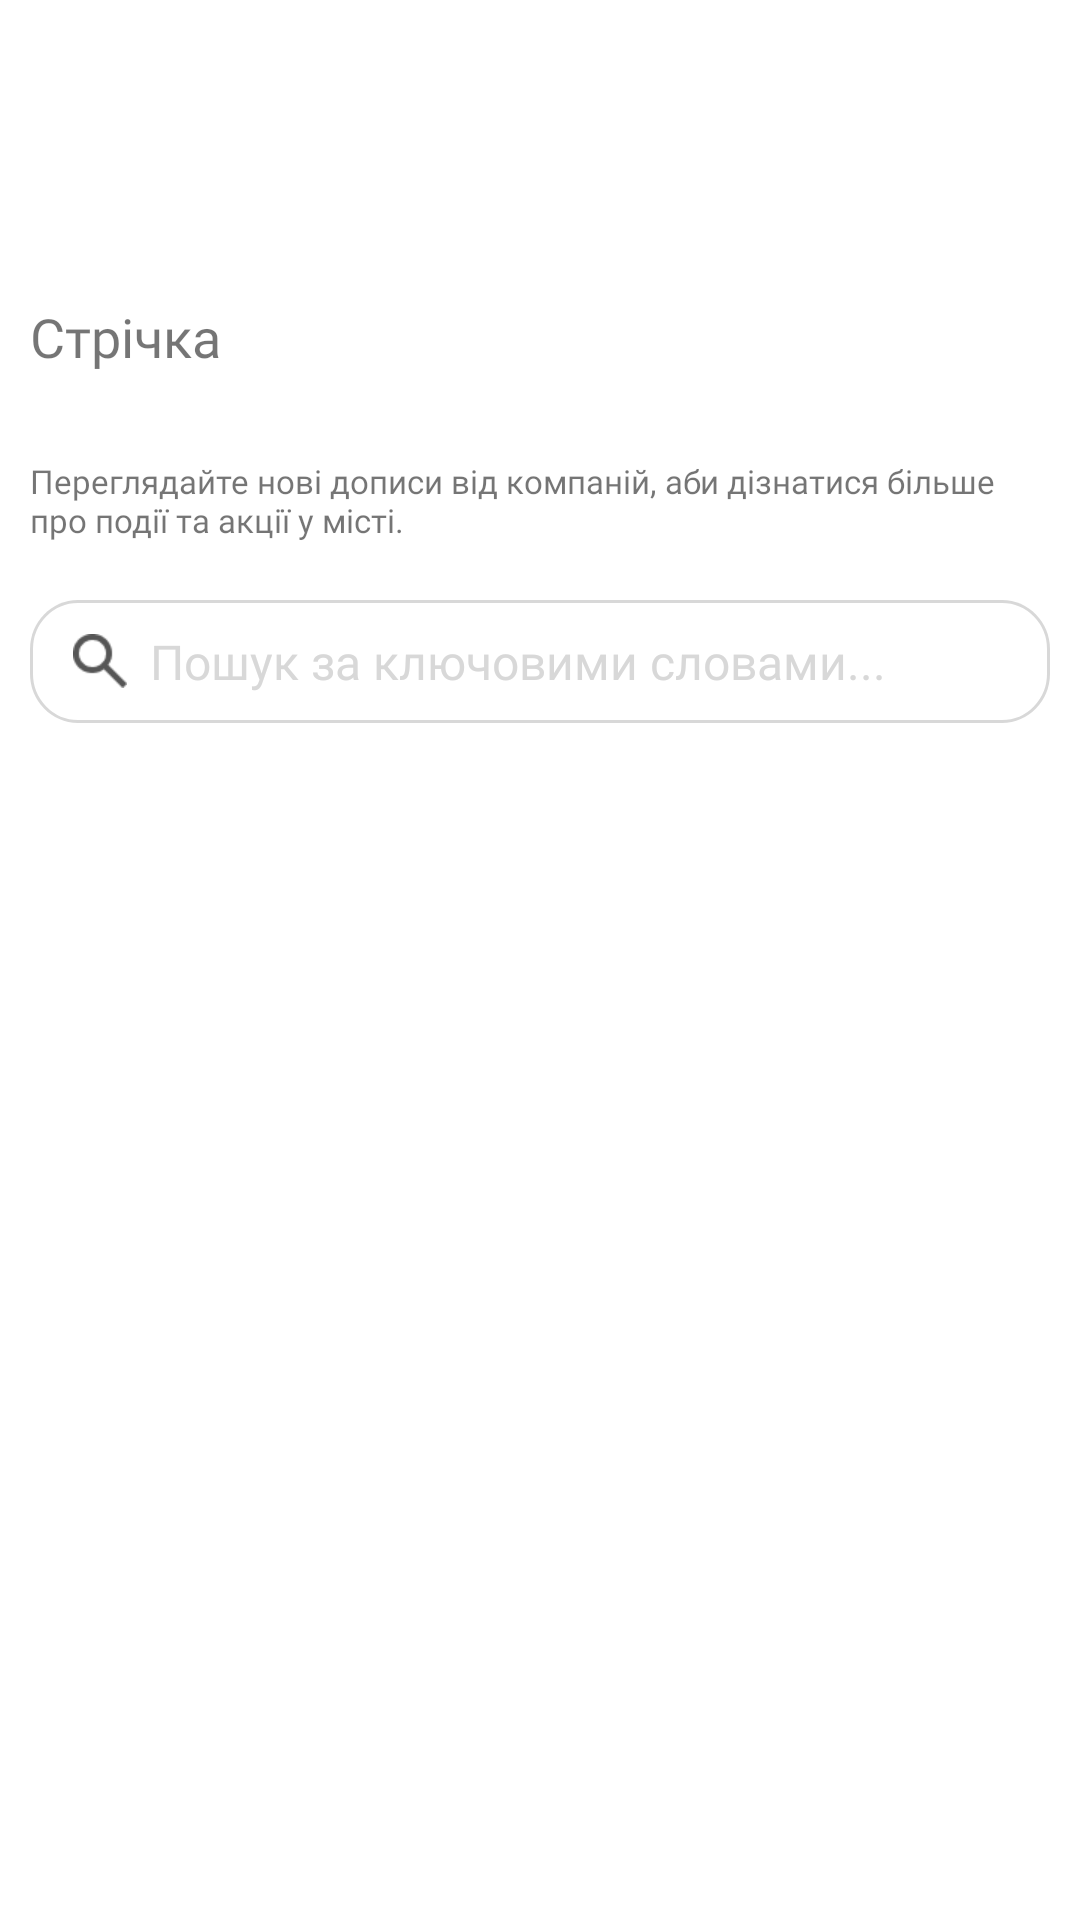

Named icons in this screenshot (1080 × 1920) and their bounding boxes, [x1, y1, x2, y2]:
search: [73, 634, 127, 688]
